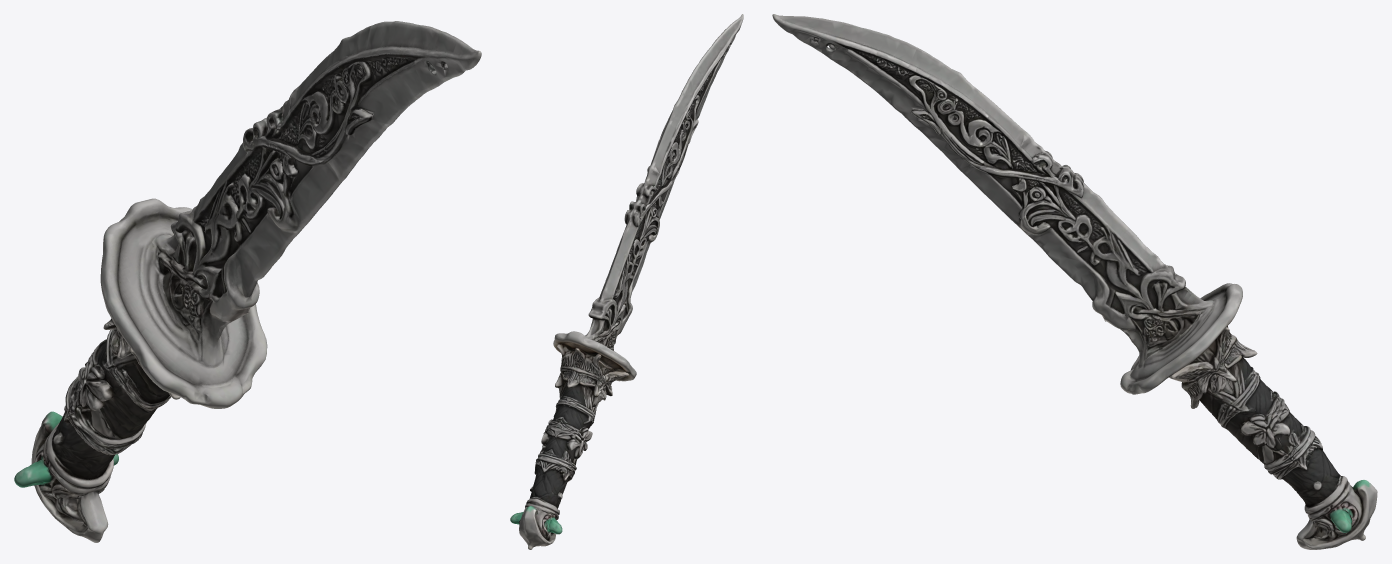
Rendered from w-gudagger.glb.
3 renders of one model, left to right at view 1: azimuth 30°, elevation 25°; view 2: azimuth 150°, elevation 25°; view 3: azimuth 270°, elevation 25°, orthographic. The views are drawn at different scales.
Visible parts, largest first — view 1: tripo_node_16eb2012-44cc-4f01-a6c3-268b1de66110; view 2: tripo_node_16eb2012-44cc-4f01-a6c3-268b1de66110; view 3: tripo_node_16eb2012-44cc-4f01-a6c3-268b1de66110.
Boxes of the visible parts, box(x1,y1,x2,y2) form: tripo_node_16eb2012-44cc-4f01-a6c3-268b1de66110: box(14, 21, 481, 542); tripo_node_16eb2012-44cc-4f01-a6c3-268b1de66110: box(510, 14, 743, 549); tripo_node_16eb2012-44cc-4f01-a6c3-268b1de66110: box(772, 14, 1377, 549).
Size of the model in its own units: 0.1805 by 0.9576 by 0.9799.
Materials: 1 (1 with a texture image).
